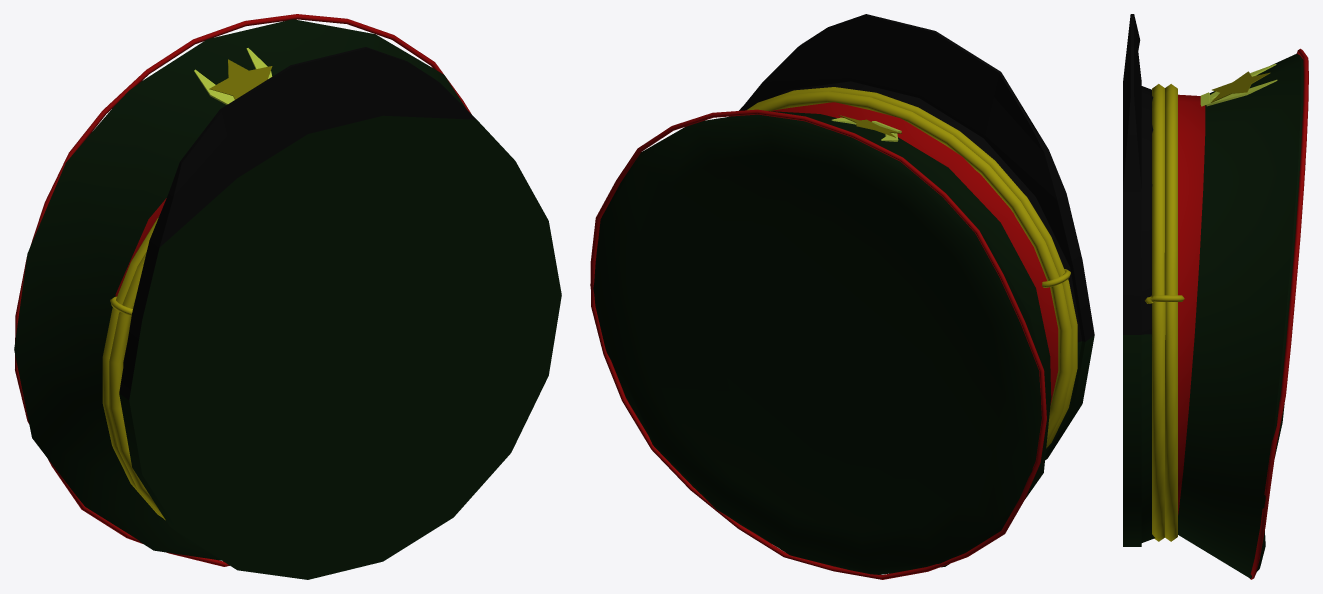
Rendered from military.FBX.
The picture shows the model from 3 angles, left to right: view 1: azimuth 30°, elevation 25°; view 2: azimuth 150°, elevation 25°; view 3: azimuth 270°, elevation 25°; orthographic projection. The views are drawn at different scales.
Parts seen in each view (by area): view 1: military hat1; view 2: military hat1; view 3: military hat1.
Boxes of the visible parts, bbox=[...] form: military hat1: bbox=[14, 14, 561, 579]; military hat1: bbox=[590, 14, 1094, 579]; military hat1: bbox=[1123, 14, 1308, 579].
Size of the model in its own units: 23.73 by 8.22 by 24.96.
